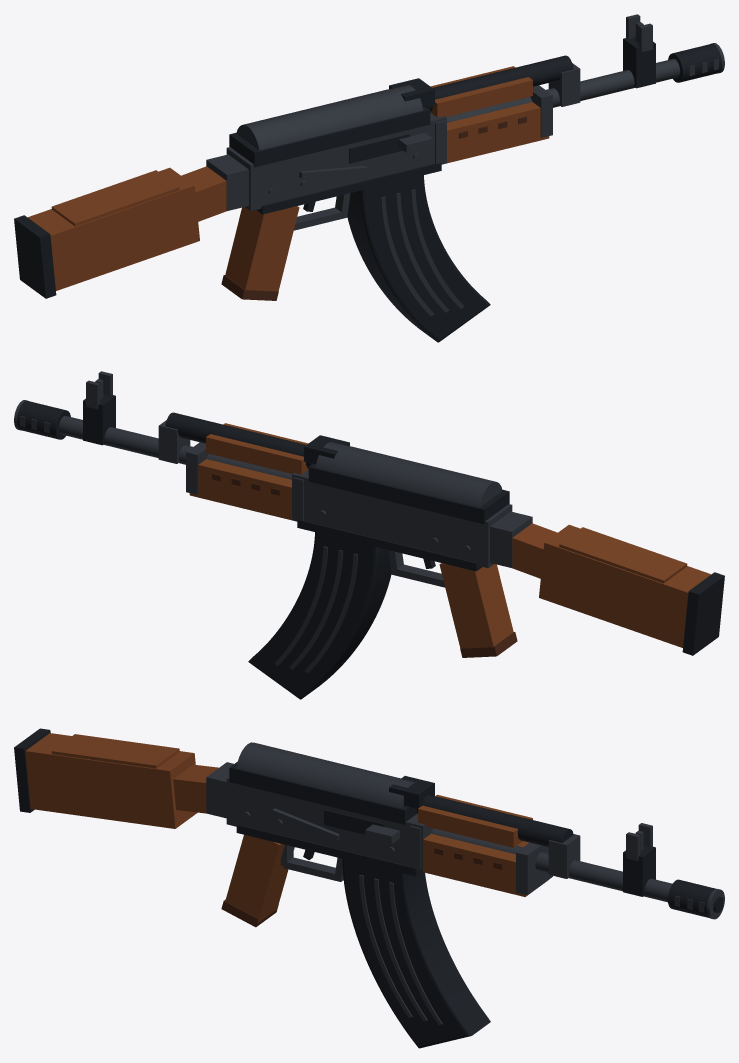
The model's file is ak-style-rifle.glb.
The picture shows the model from 3 angles, top to bottom: view 1: azimuth 30°, elevation 25°; view 2: azimuth 150°, elevation 25°; view 3: azimuth 330°, elevation 25°; orthographic projection.
Visible parts, largest first — view 1: Curved magazine, Wooden stock body, Receiver, Rounded dust cover, Wooden pistol grip, Lower wooden handguard, Dust cover base, Stock cheek ridge, Butt plate, Upper wooden handguard, Barrel, Gas tube (+13 smaller); view 2: Curved magazine, Wooden stock body, Receiver, Rounded dust cover, Wooden pistol grip, Lower wooden handguard, Dust cover base, Stock cheek ridge, Butt plate, Upper wooden handguard, Barrel, Gas tube (+11 smaller); view 3: Curved magazine, Wooden stock body, Receiver, Rounded dust cover, Wooden pistol grip, Lower wooden handguard, Dust cover base, Stock cheek ridge, Barrel, Magazine stamped rib (×3), Upper wooden handguard, Gas tube (+12 smaller).
Boxes of the visible parts, x1,y1,x2,y2 form: Curved magazine: (347, 175, 490, 342); Wooden stock body: (28, 167, 199, 290); Receiver: (226, 113, 446, 211); Rounded dust cover: (236, 85, 423, 150); Wooden pistol grip: (225, 206, 299, 291); Lower wooden handguard: (447, 102, 549, 163); Dust cover base: (229, 106, 430, 167); Stock cheek ridge: (51, 170, 179, 226); Butt plate: (14, 215, 56, 298); Upper wooden handguard: (430, 66, 532, 117); Barrel: (447, 59, 680, 122); Gas tube: (426, 55, 573, 111); Curved magazine: (248, 532, 391, 699); Wooden stock body: (539, 524, 710, 647); Receiver: (292, 470, 512, 568); Rounded dust cover: (315, 442, 502, 507); Wooden pistol grip: (439, 563, 513, 648); Lower wooden handguard: (189, 459, 291, 520); Dust cover base: (308, 463, 509, 524); Stock cheek ridge: (559, 527, 687, 583); Butt plate: (682, 572, 724, 655); Upper wooden handguard: (206, 423, 308, 474); Barrel: (58, 416, 291, 479); Gas tube: (165, 412, 312, 468); Curved magazine: (342, 859, 490, 1048); Wooden stock body: (25, 733, 197, 828); Receiver: (226, 776, 433, 871); Rounded dust cover: (236, 742, 415, 807); Wooden pistol grip: (225, 834, 294, 923); Lower wooden handguard: (423, 833, 545, 896); Dust cover base: (229, 762, 417, 824); Stock cheek ridge: (51, 734, 179, 768); Barrel: (431, 828, 672, 902); Magazine stamped rib (×3): (359, 875, 442, 1024); Upper wooden handguard: (418, 794, 532, 847); Gas tube: (416, 795, 573, 846).
Bounding box in the file's own units: 5.99 × 2.18 × 0.509.
